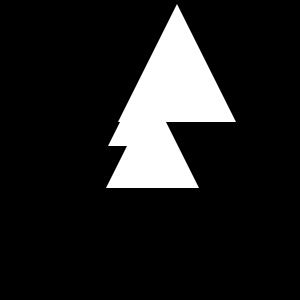triangle: (118, 4, 236, 122), (106, 95, 199, 188), (108, 90, 164, 146)
